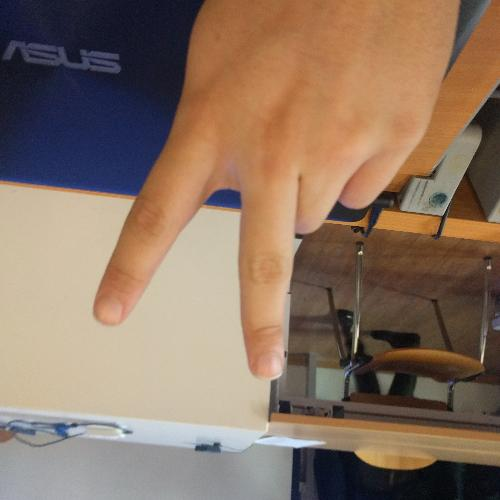scissors: (89, 1, 456, 384)
